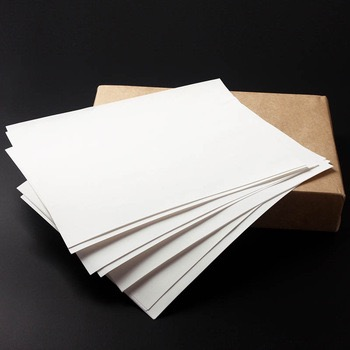paper: (4, 78, 335, 321)
